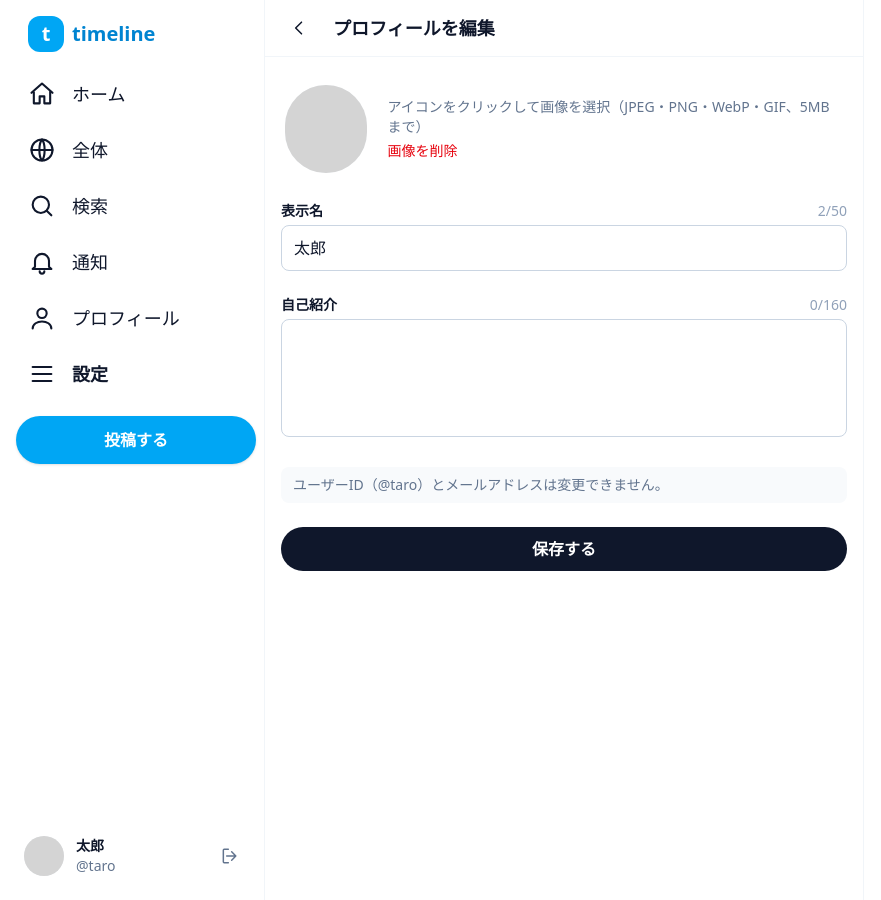
Scenario: アイコン画像 › 画像を削除すると頭文字のアイコンに戻る
Click the button "画像を削除": (422, 151) [387,141,457,161]
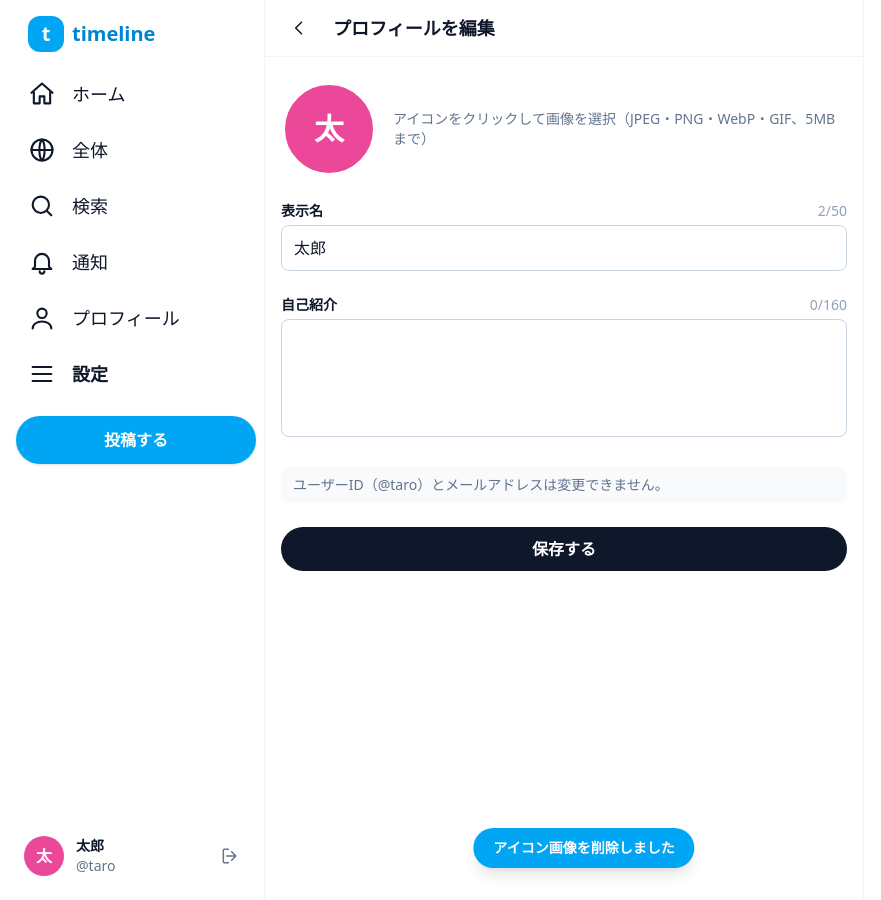
expect the text "アイコン画像を削除しました" is shown: met, box [473,828,695,868]
